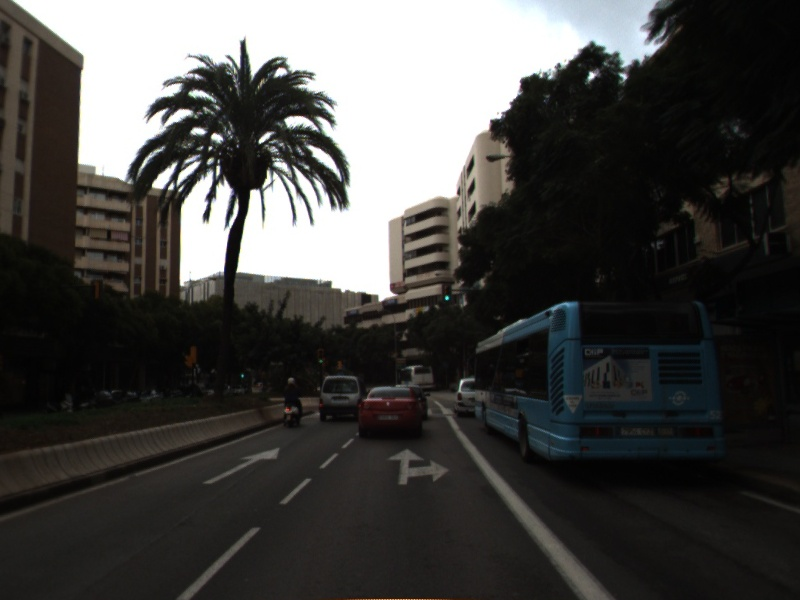STRAIGHT: (200, 446, 282, 486)
STRAIGHT_RIGHT: (384, 446, 452, 486)
